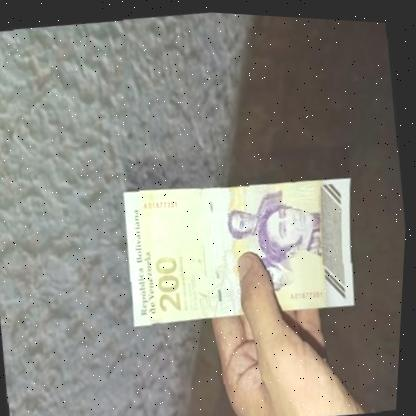two_hundred-front-vef: (117, 156, 369, 336)
